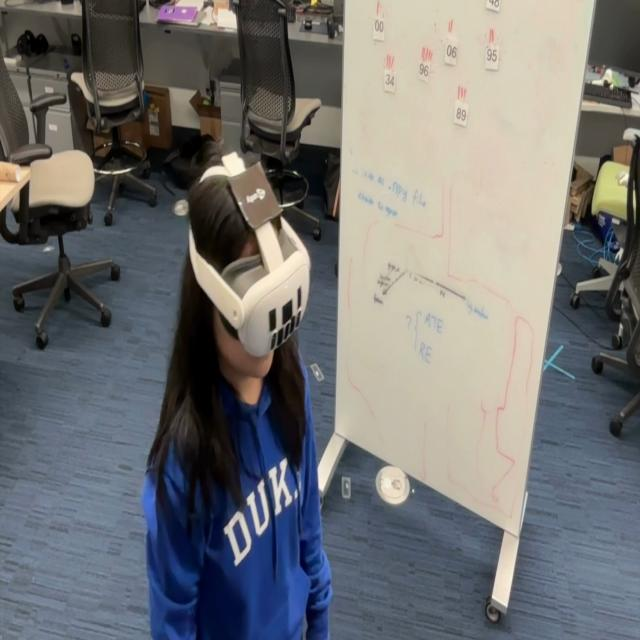UnityLogo: (226, 158, 283, 232)
